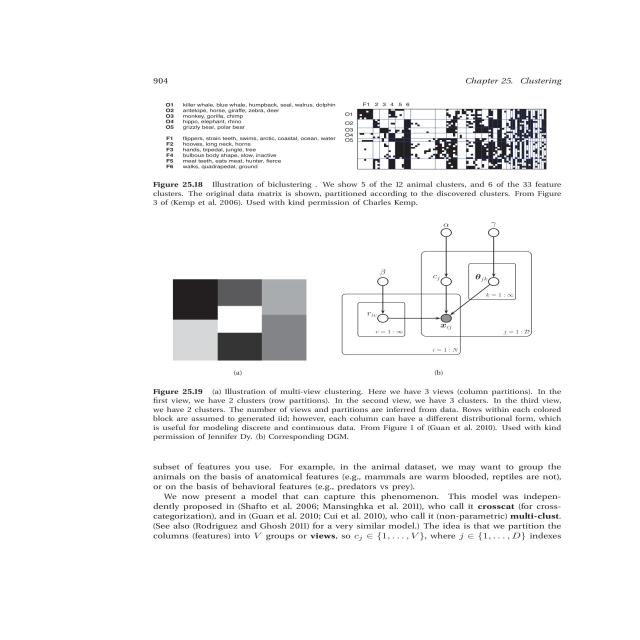diagram: (123, 93, 640, 447)
